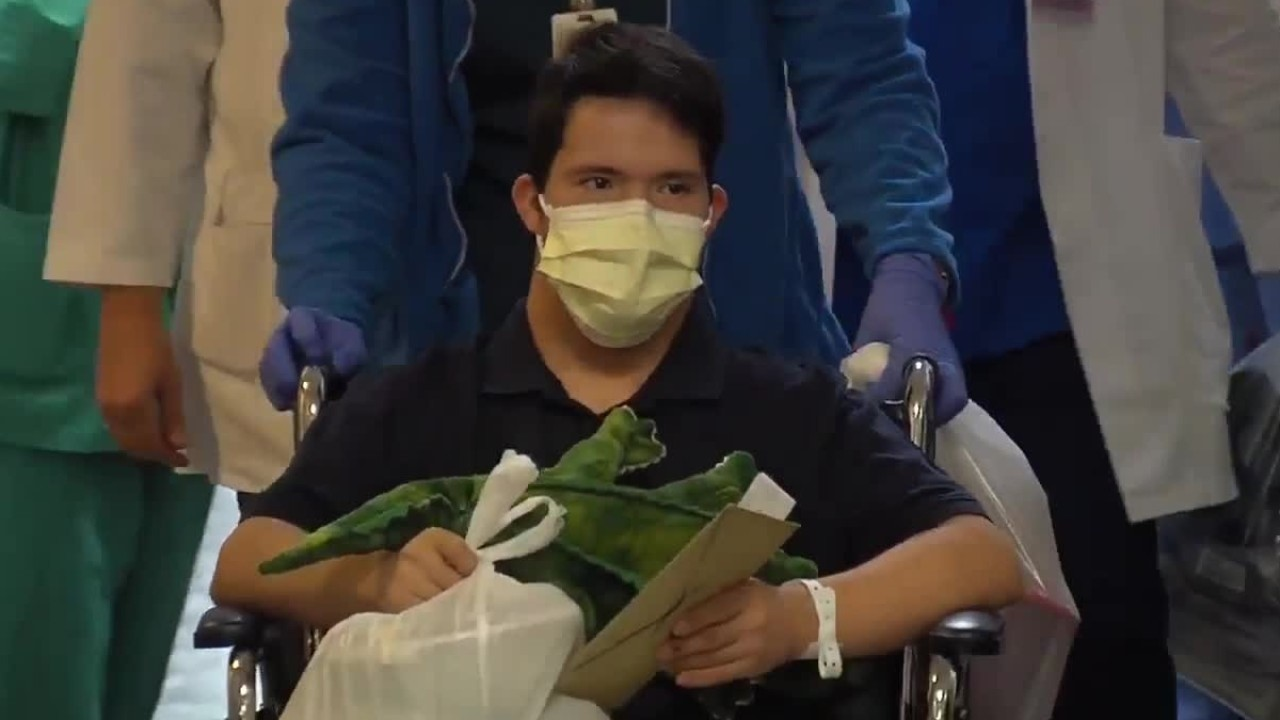face_with_mask: (510, 27, 726, 359)
